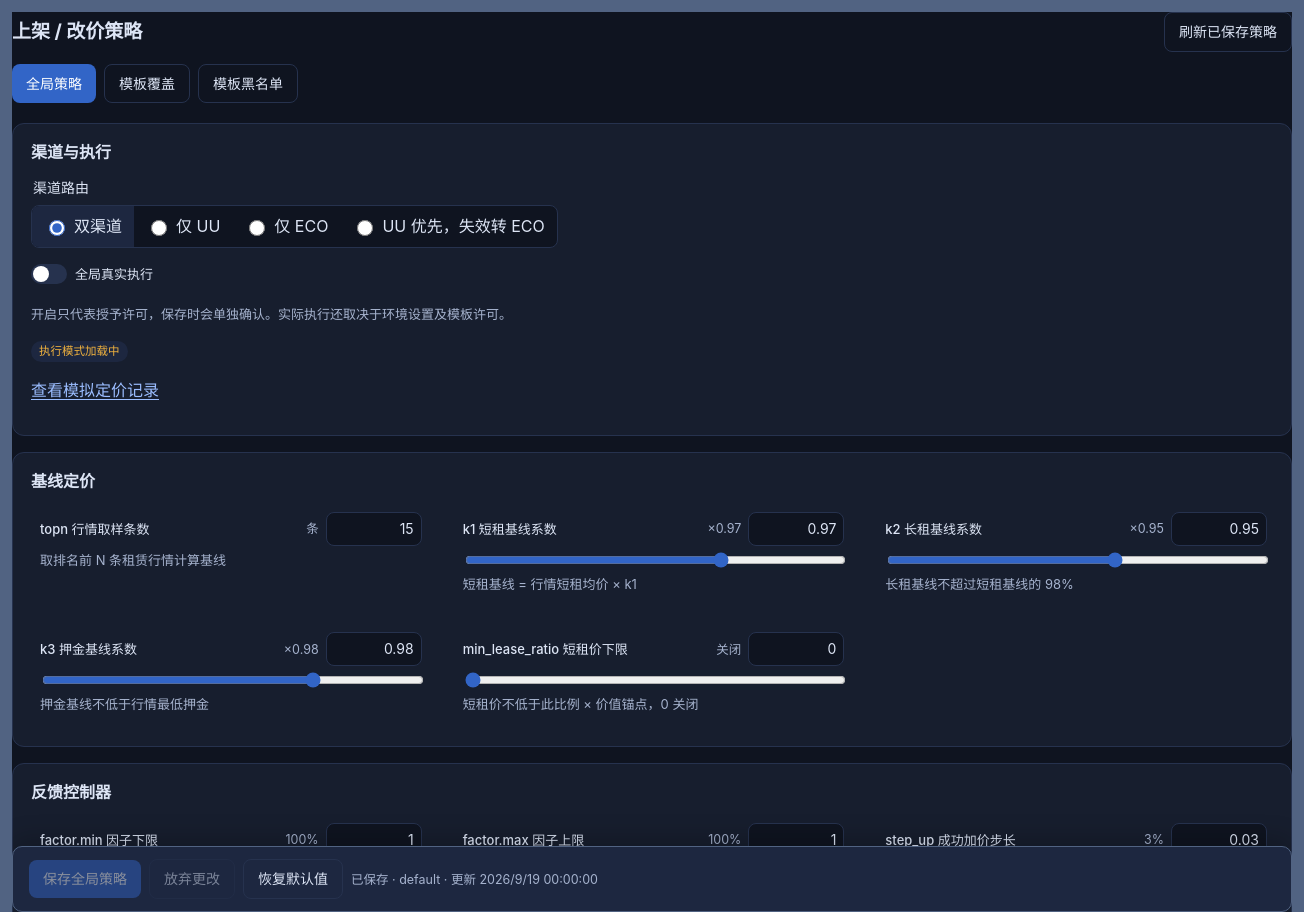
it: global strategy drafts › preserves zero change cap and equal bounds
Check: the number field named "topn 行情取样条数数值" is shown, box [326,512,422,546]
Click the radio button labelled "仅 ECO".
click(257, 228)  # box [249,220,265,236]
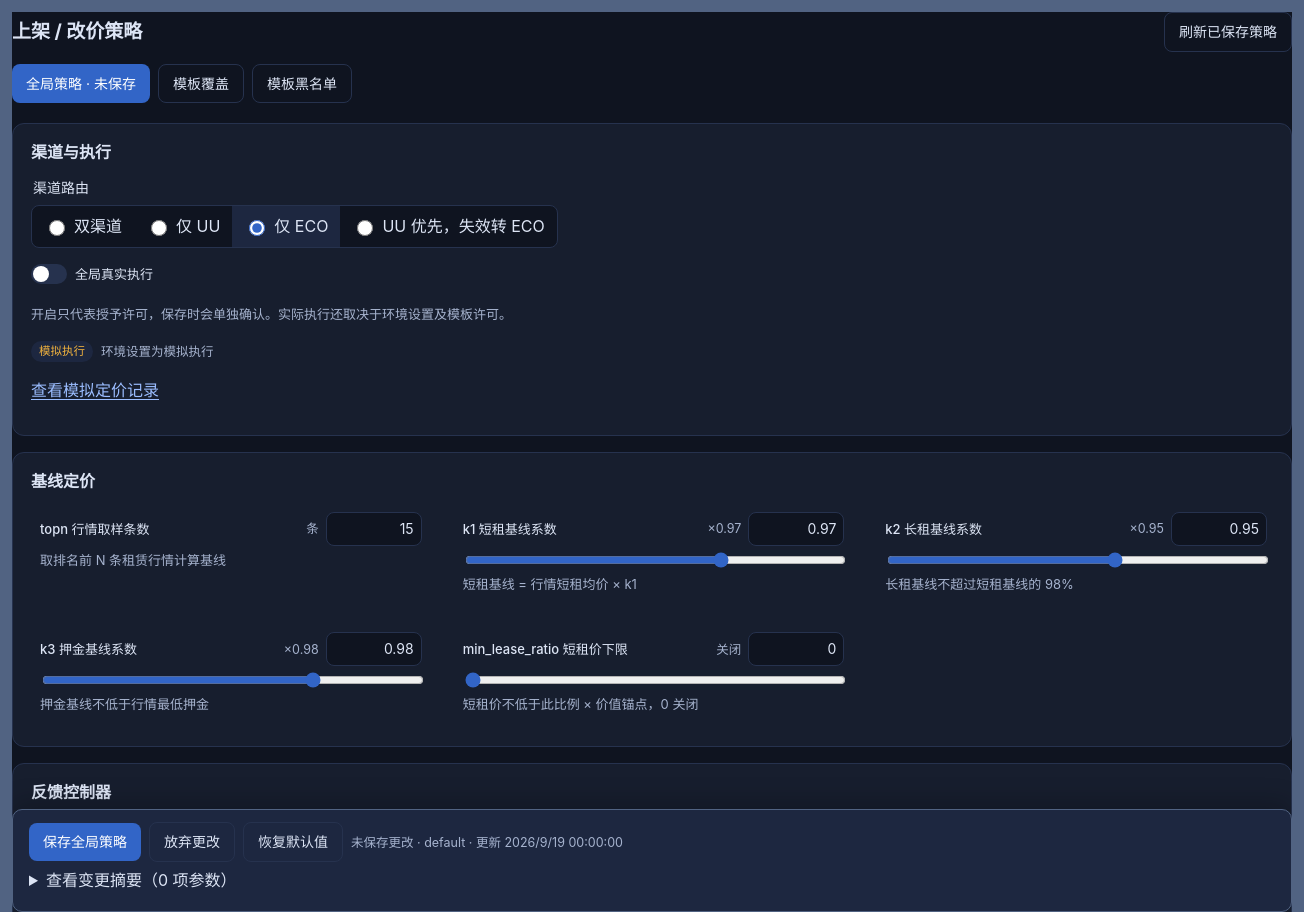
Click the button "保存全局策略".
click(85, 842)  # box [29,824,141,861]
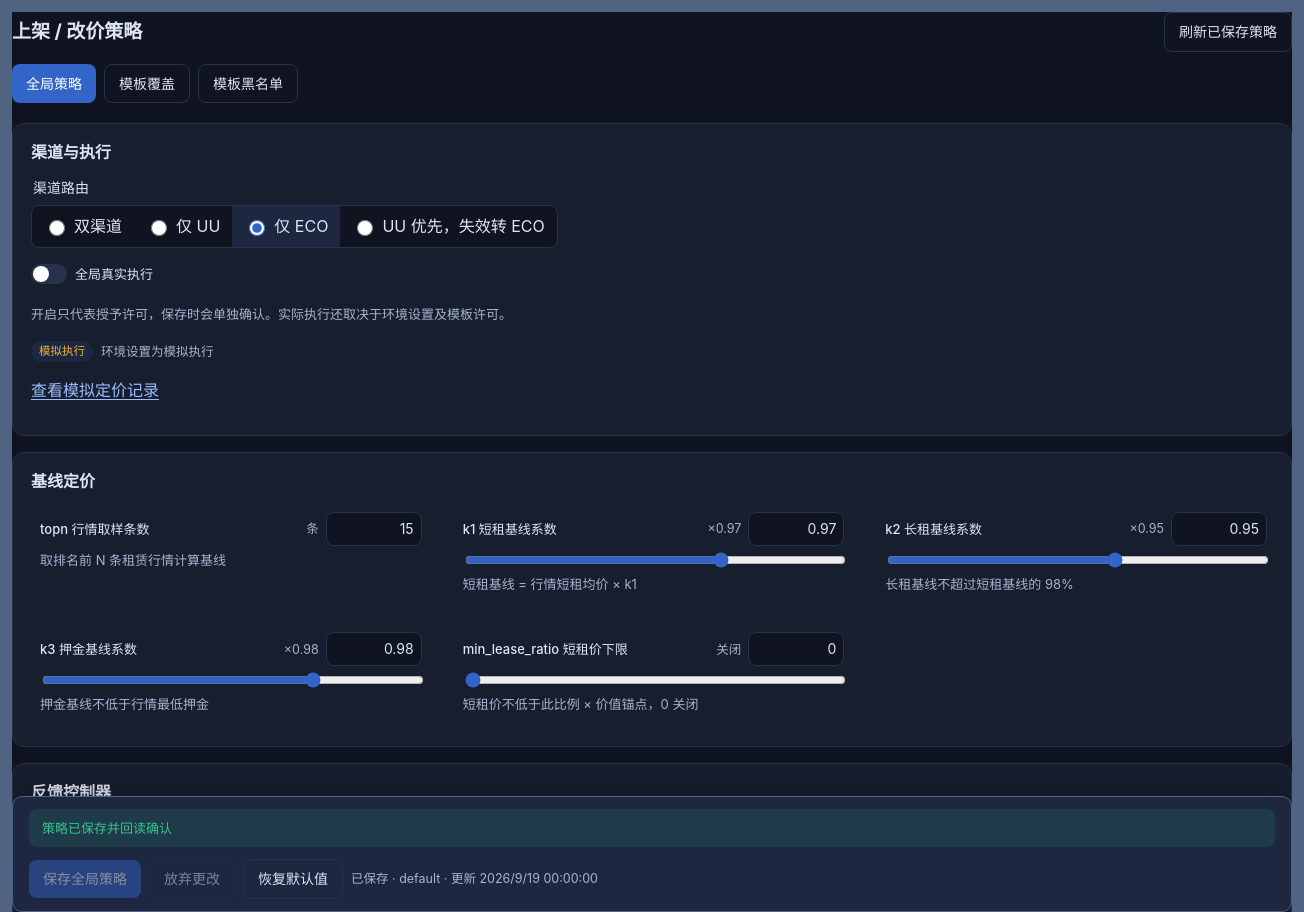
Check: the text "策略已保存并回读确认" is shown, box [29,809,1275,847]
